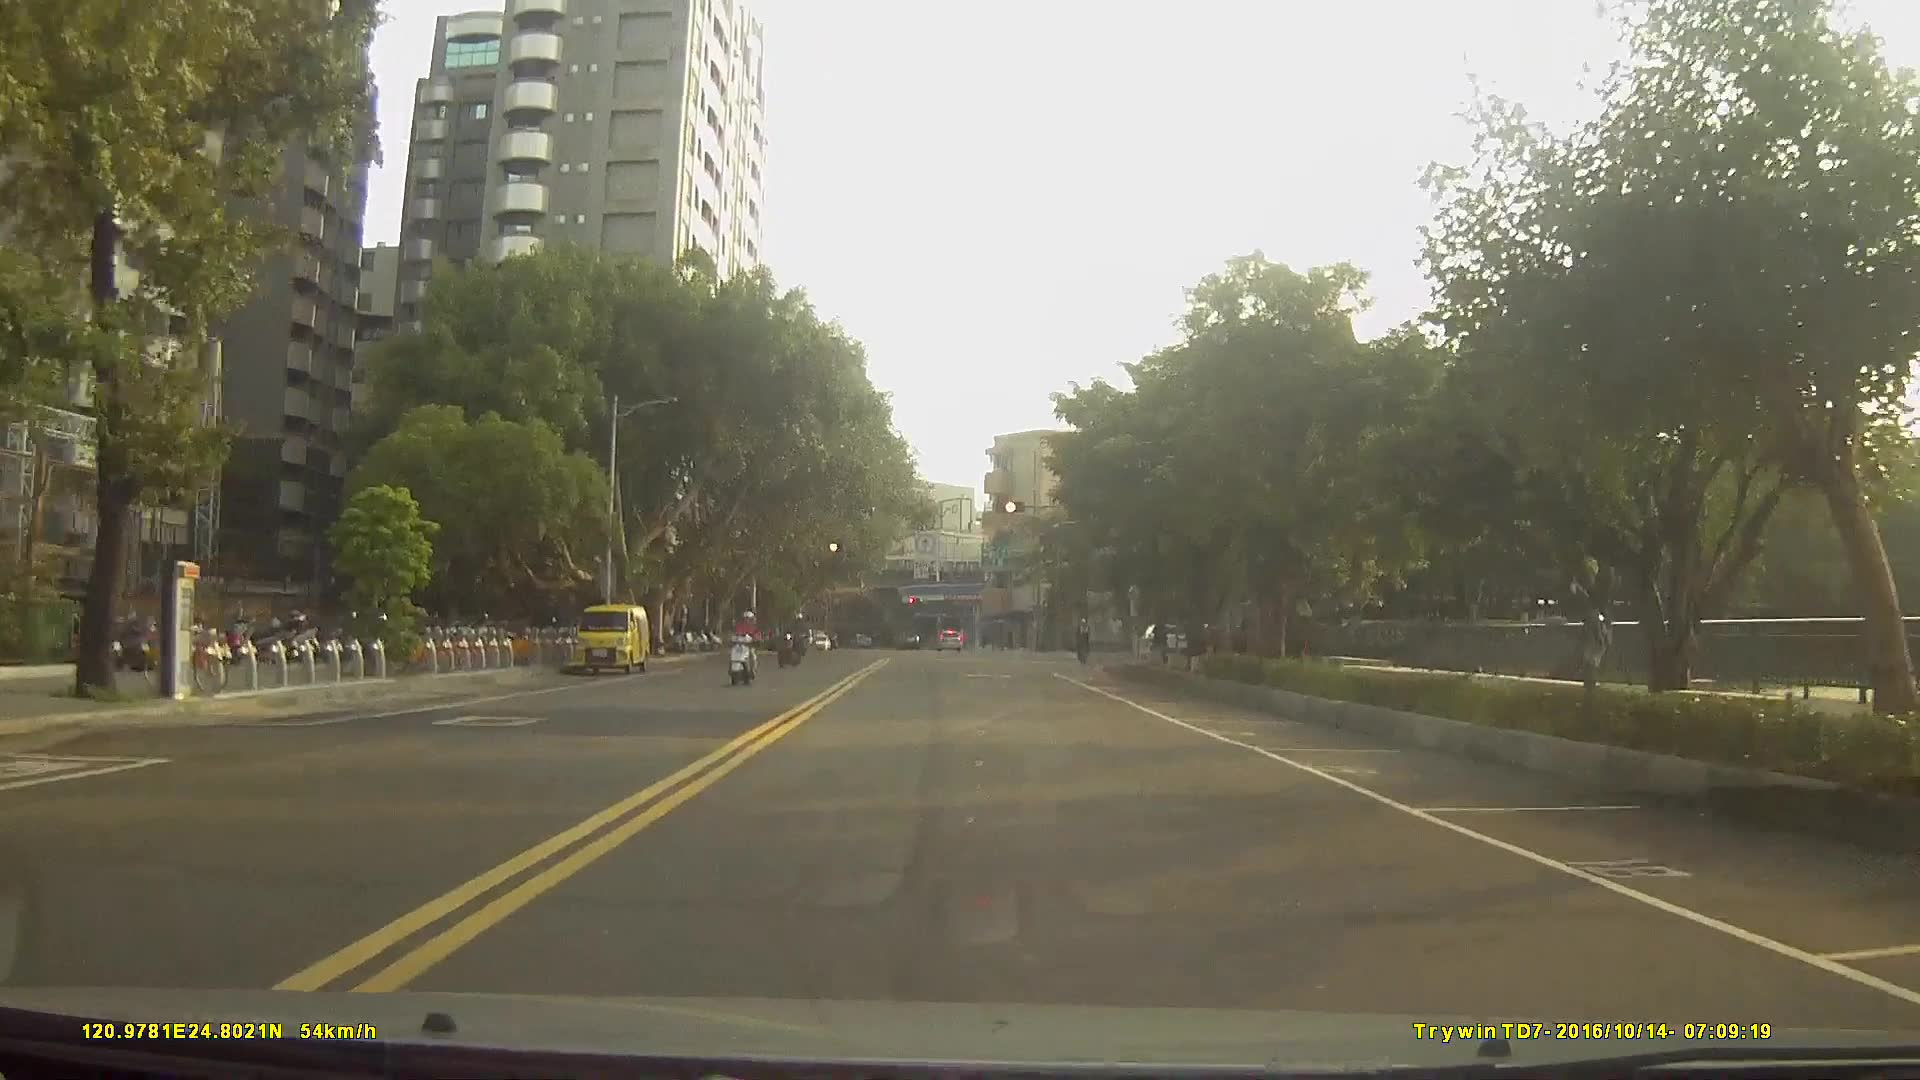pedestrian: (1108, 614, 1128, 655)
rider: (726, 609, 768, 690), (777, 611, 808, 672), (1074, 619, 1095, 669)
vehicle: (935, 625, 964, 651)
